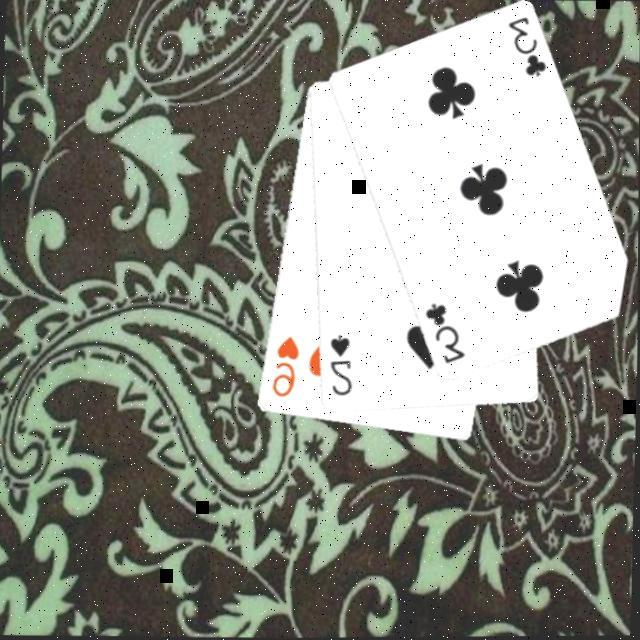2S: (324, 333, 355, 402)
3C: (419, 301, 468, 370), (501, 15, 549, 83)
9H: (266, 334, 301, 403)
